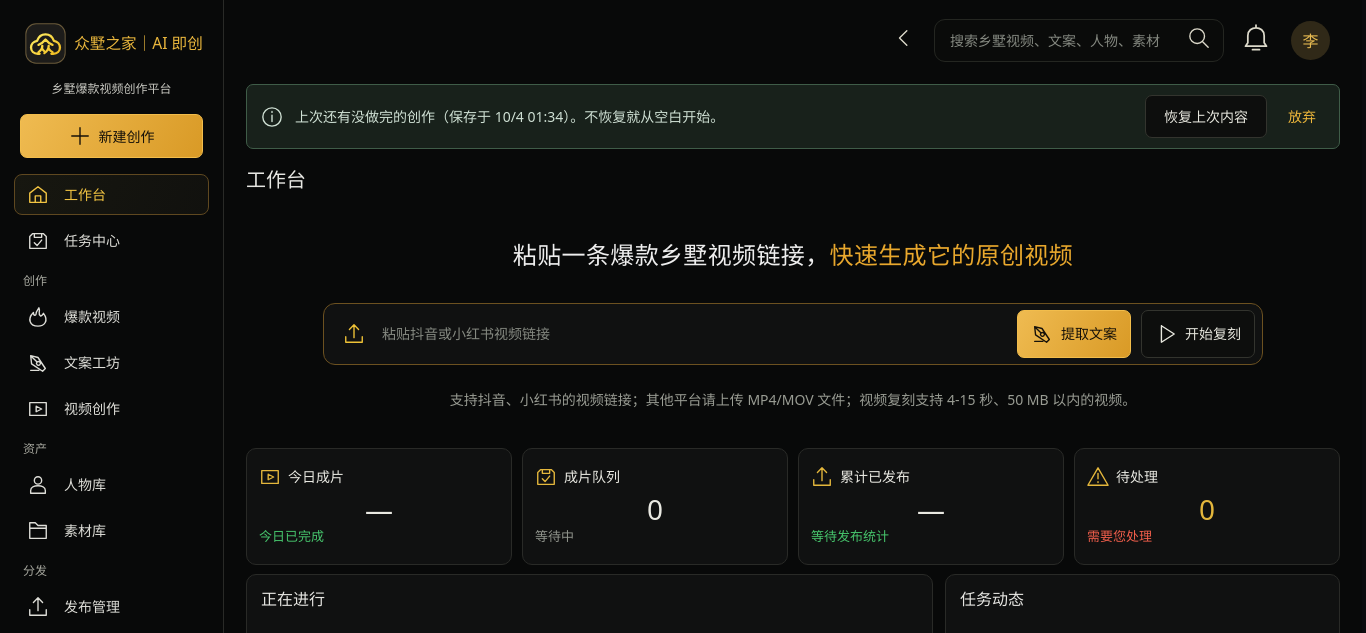
Scenario: V1.4 workspace integration › C7 云端草稿 › LEFTOVER-ON-OPEN 恢复闸门 › 放弃失败时保留提示并说明未清除，避免静默失败
The width and height of the screenshot is (1366, 633).
Click the button "放弃" at (1302, 116), box [1279,96,1325,138]
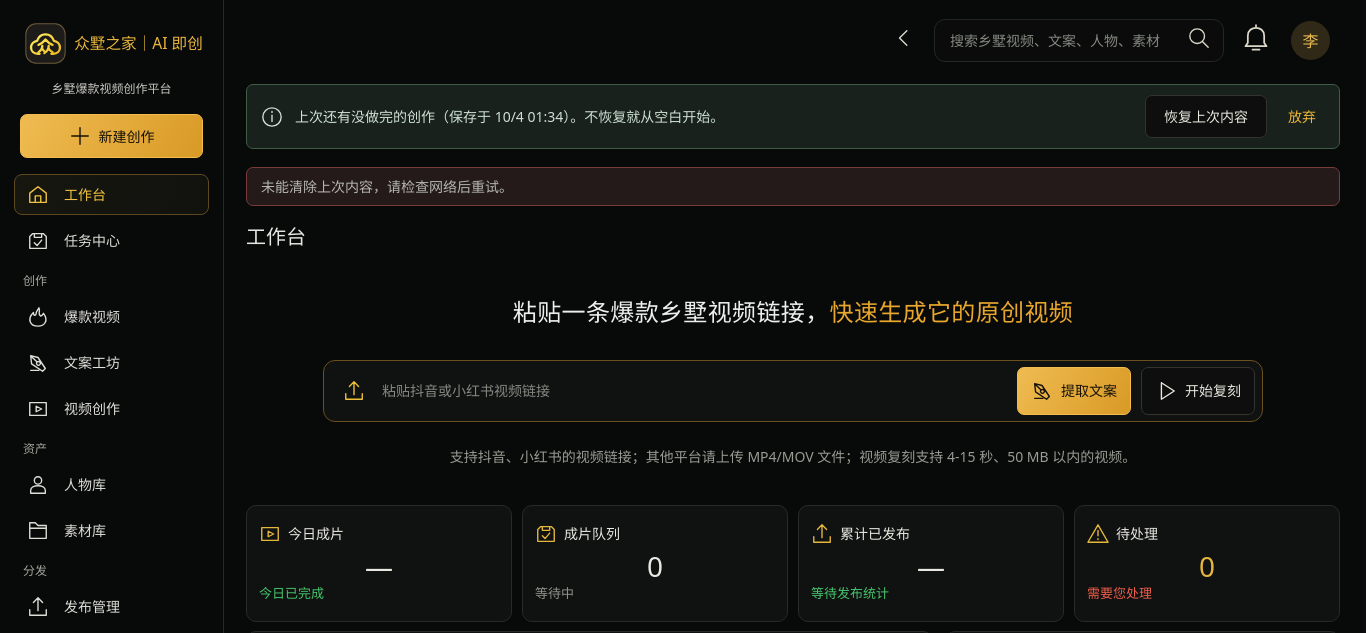
Expected: the text "未能清除上次内容，请检查网络后重试。" is shown, [246,167,1340,206]
